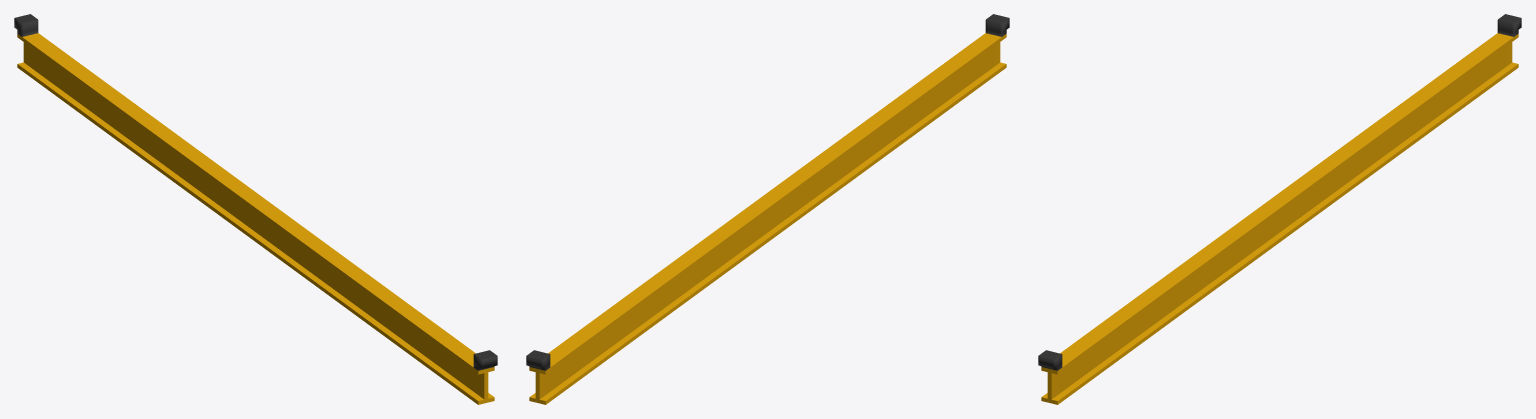
Rendered from Crane_Girder_50ft.fbx.
3 renders of one model, left to right at view 1: azimuth 30°, elevation 25°; view 2: azimuth 150°, elevation 25°; view 3: azimuth 330°, elevation 25°, orthographic.
Visible parts, largest first — view 1: Girder_50ft; view 2: Girder_50ft; view 3: Girder_50ft.
Boxes of the visible parts, x1,y1,x2,y2 form: Girder_50ft: (14,14,497,404); Girder_50ft: (526,14,1009,404); Girder_50ft: (1038,14,1521,404).
Bounding box in the file's own units: 30.48 × 84.85 × 1514.
